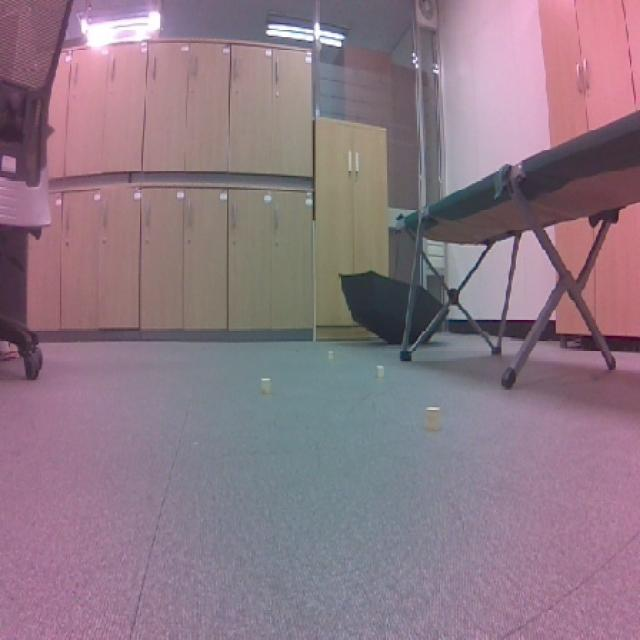obstacle: (419, 401, 447, 441)
